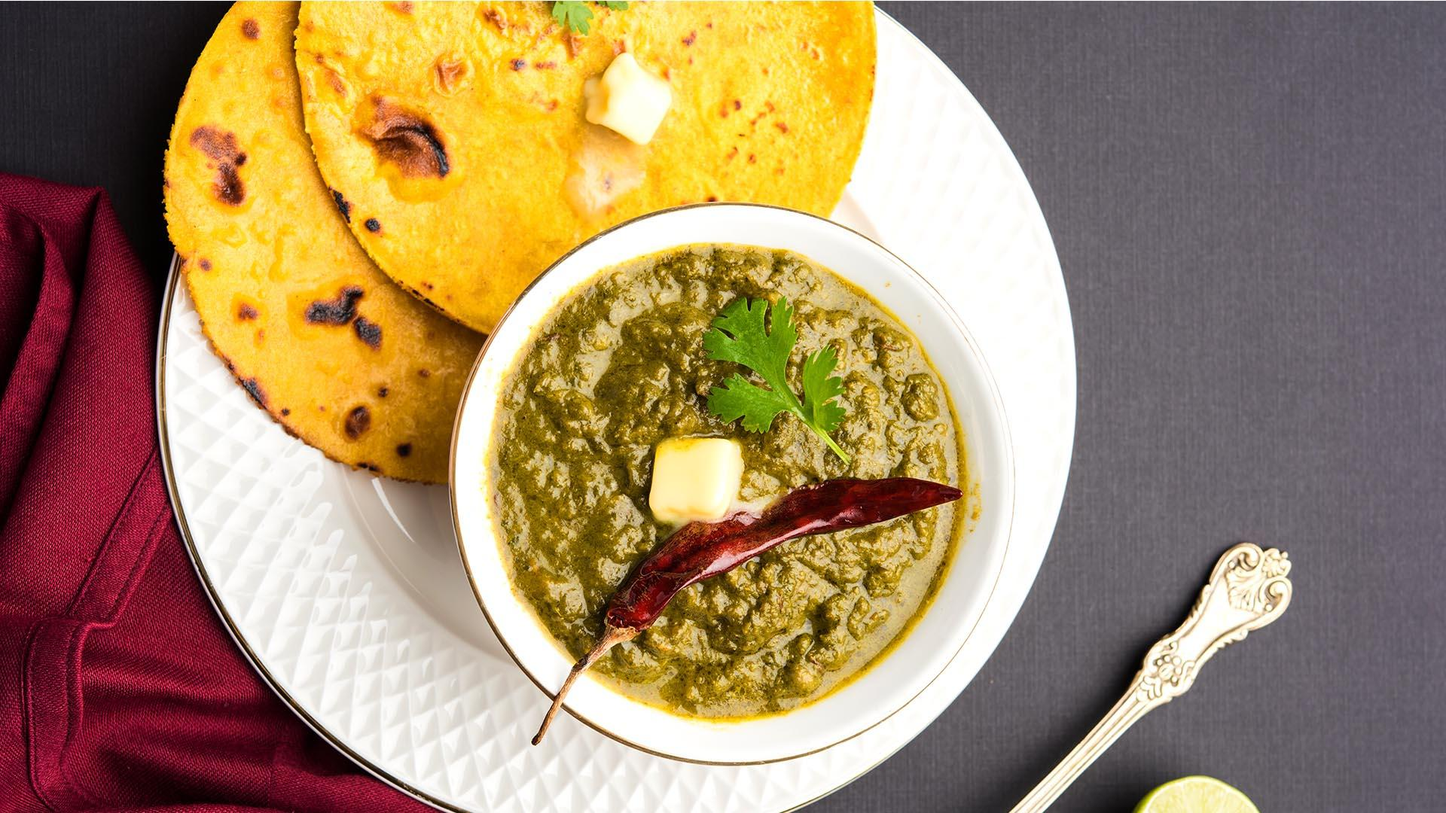saag: (484, 241, 974, 727)
